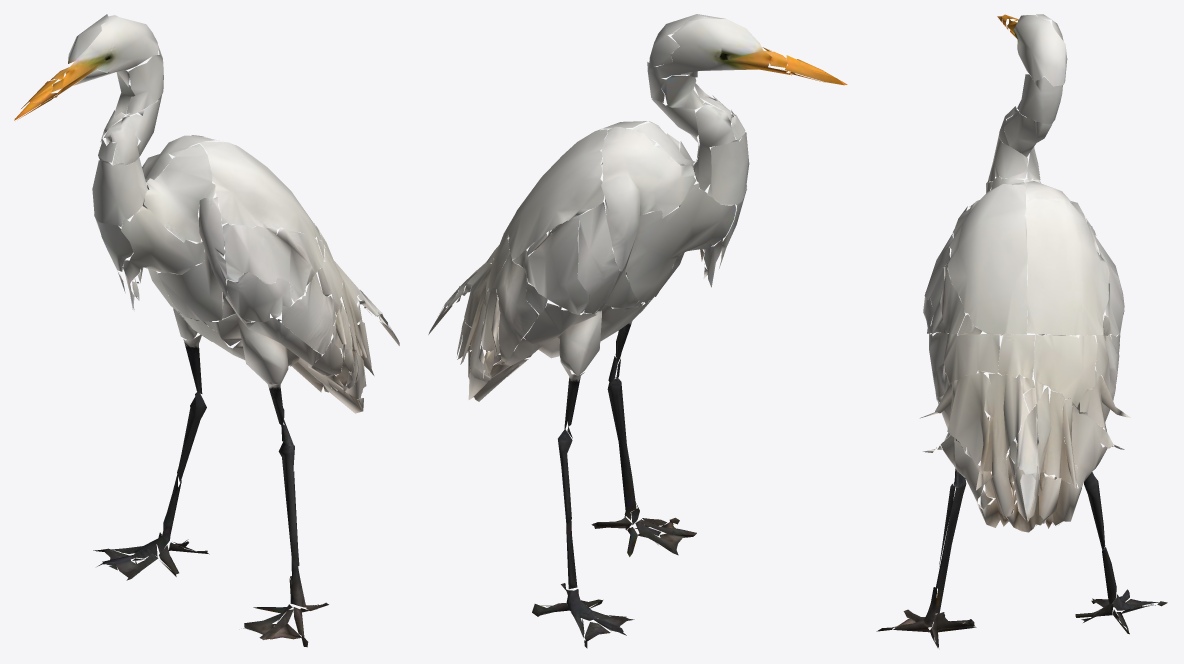
File: garca.glb
3 views of the same model, side by side, from view 1: azimuth 30°, elevation 25°; view 2: azimuth 150°, elevation 25°; view 3: azimuth 270°, elevation 25° (orthographic). The views are drawn at different scales.
Parts seen in each view (by area): view 1: tripo_node_a894e105-2303-485d-a670-94e6cb28a6e4; view 2: tripo_node_a894e105-2303-485d-a670-94e6cb28a6e4; view 3: tripo_node_a894e105-2303-485d-a670-94e6cb28a6e4.
Part boxes in pixels (<box>): tripo_node_a894e105-2303-485d-a670-94e6cb28a6e4: <box>14,14,399,647</box>; tripo_node_a894e105-2303-485d-a670-94e6cb28a6e4: <box>428,14,847,648</box>; tripo_node_a894e105-2303-485d-a670-94e6cb28a6e4: <box>876,14,1167,647</box>.
Size of the model in its own units: 0.8814 by 1.25 by 0.5894.
1 material, 1 textured.
